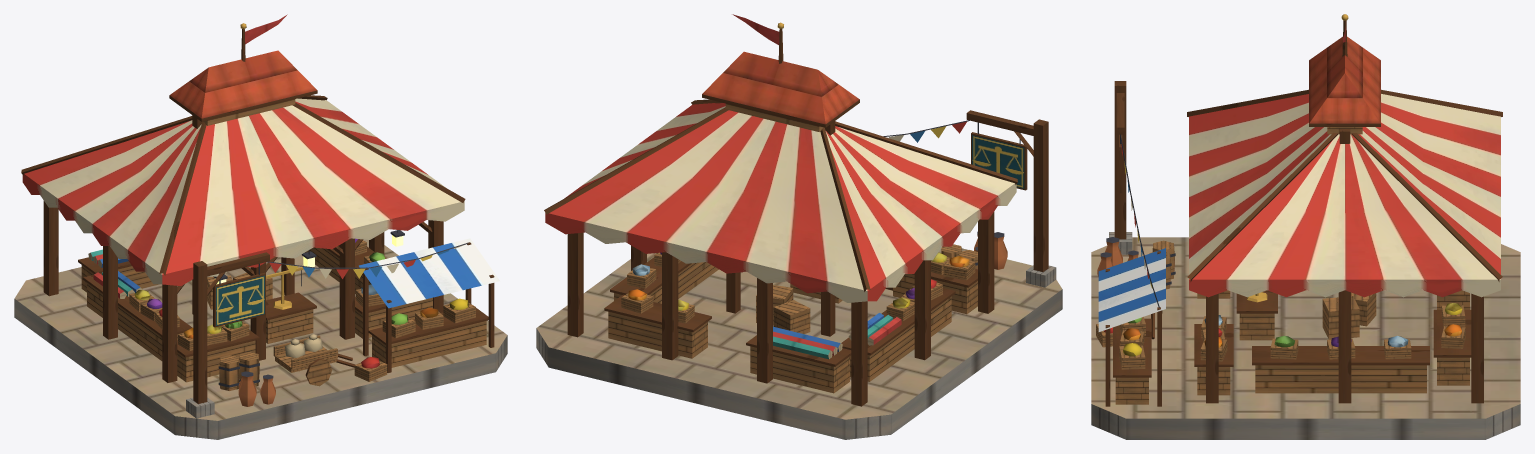
Rendered from market.glb.
3 renders of one model, left to right at view 1: azimuth 30°, elevation 25°; view 2: azimuth 150°, elevation 25°; view 3: azimuth 270°, elevation 25°, orthographic. The views are drawn at different scales.
Visible parts, largest first — view 1: market; view 2: market; view 3: market.
Part boxes in pixels (x1,y1,x2,y2): market: (14,14,507,439); market: (536,14,1062,439); market: (1091,14,1520,439).
Size of the model in its own units: 11 by 9.48 by 11.
Materials: 4 (4 with a texture image).
